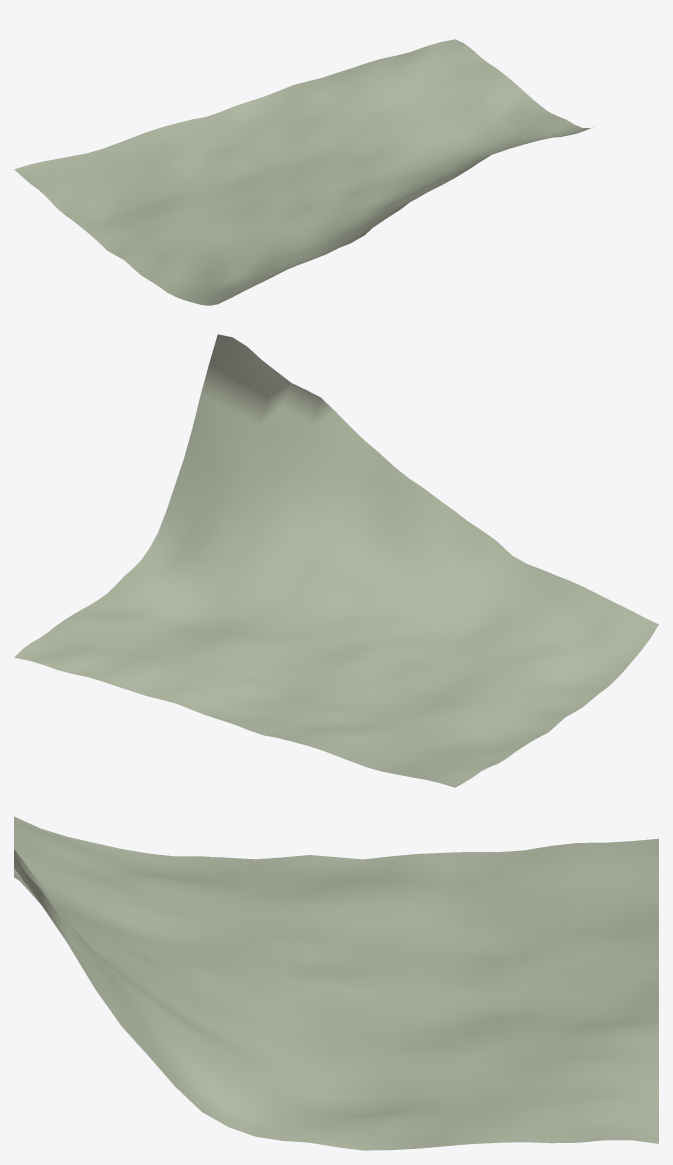
3 renders of one model, top to bottom at view 1: azimuth 30°, elevation 25°; view 2: azimuth 150°, elevation 25°; view 3: azimuth 270°, elevation 25°, orthographic. The views are drawn at different scales.
Visible parts, largest first — view 1: world-ground/120-144; view 2: world-ground/120-144; view 3: world-ground/120-144.
Part boxes in pixels (<box>): world-ground/120-144: <box>14,39,592,305</box>; world-ground/120-144: <box>14,334,658,787</box>; world-ground/120-144: <box>14,816,658,1150</box>.
Bounding box in the file's own units: 37.5 × 17.08 × 30.
